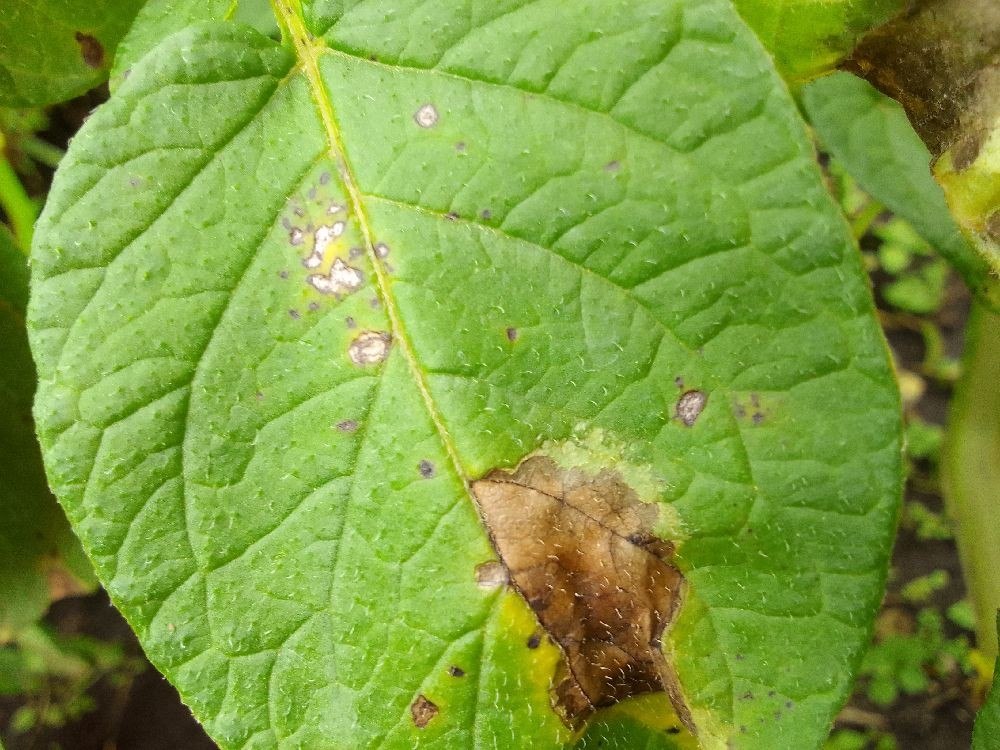late_blight: (764, 141, 1000, 750), (0, 350, 261, 750), (448, 434, 717, 749), (800, 0, 1000, 208)
